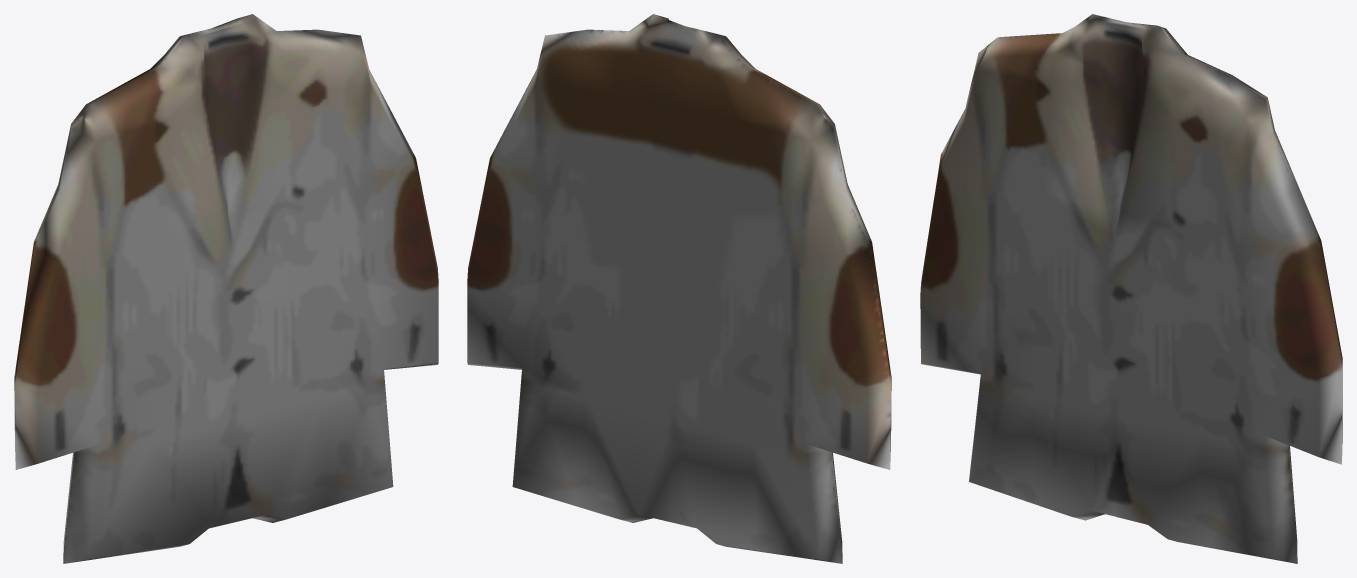
File: prop_fuku04.fbx
3 renders of one model, left to right at view 1: azimuth 30°, elevation 25°; view 2: azimuth 150°, elevation 25°; view 3: azimuth 330°, elevation 25°, orthographic.
Visible parts, largest first — view 1: prop_fuku04; view 2: prop_fuku04; view 3: prop_fuku04.
Boxes of the visible parts, bbox=[...] form: prop_fuku04: bbox=[14, 14, 438, 563]; prop_fuku04: bbox=[467, 14, 891, 563]; prop_fuku04: bbox=[920, 14, 1342, 563].
Size of the model in its own units: 0.5928 by 0.69 by 0.0583.
